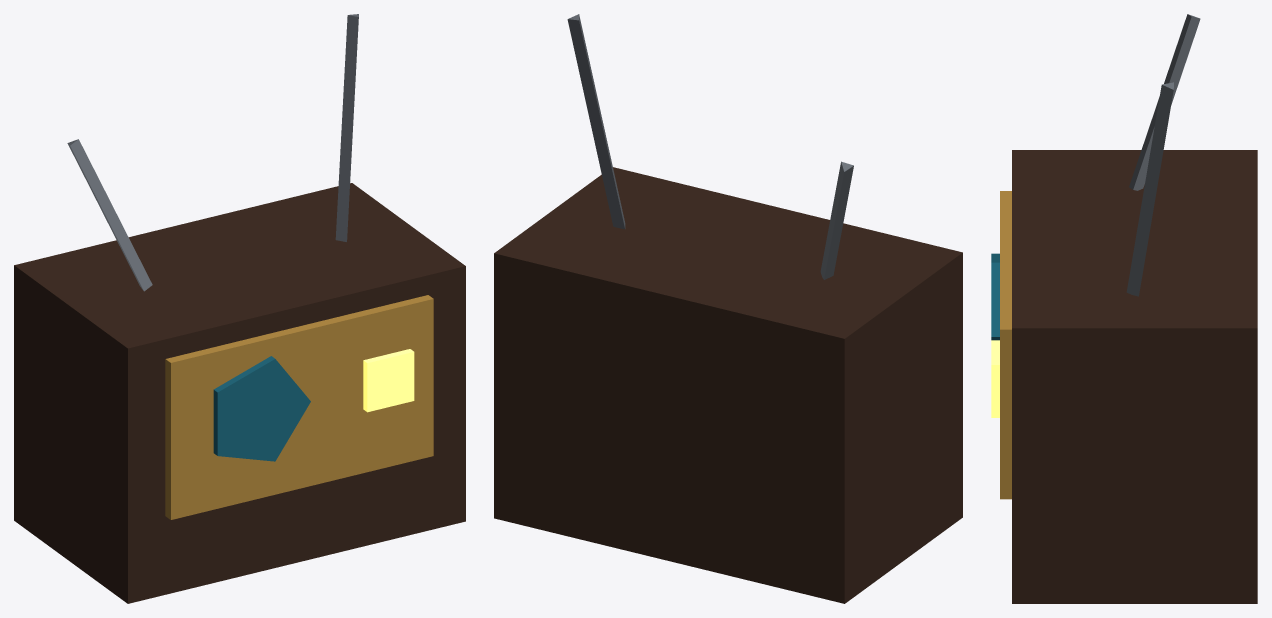
The model's file is SM_Prop_AetherComm_LQ.glb.
The picture shows the model from 3 angles, left to right: view 1: azimuth 30°, elevation 25°; view 2: azimuth 150°, elevation 25°; view 3: azimuth 270°, elevation 25°; orthographic projection. The views are drawn at different scales.
Parts seen in each view (by area): view 1: SM_Prop_AetherComm_LQ; view 2: SM_Prop_AetherComm_LQ; view 3: SM_Prop_AetherComm_LQ.
Boxes of the visible parts, x1,y1,x2,y2 form: SM_Prop_AetherComm_LQ: [14, 14, 465, 603]; SM_Prop_AetherComm_LQ: [494, 14, 962, 603]; SM_Prop_AetherComm_LQ: [991, 14, 1257, 603].
Size of the model in its own units: 0.72 by 0.942 by 0.455.
1 material, 1 textured.
